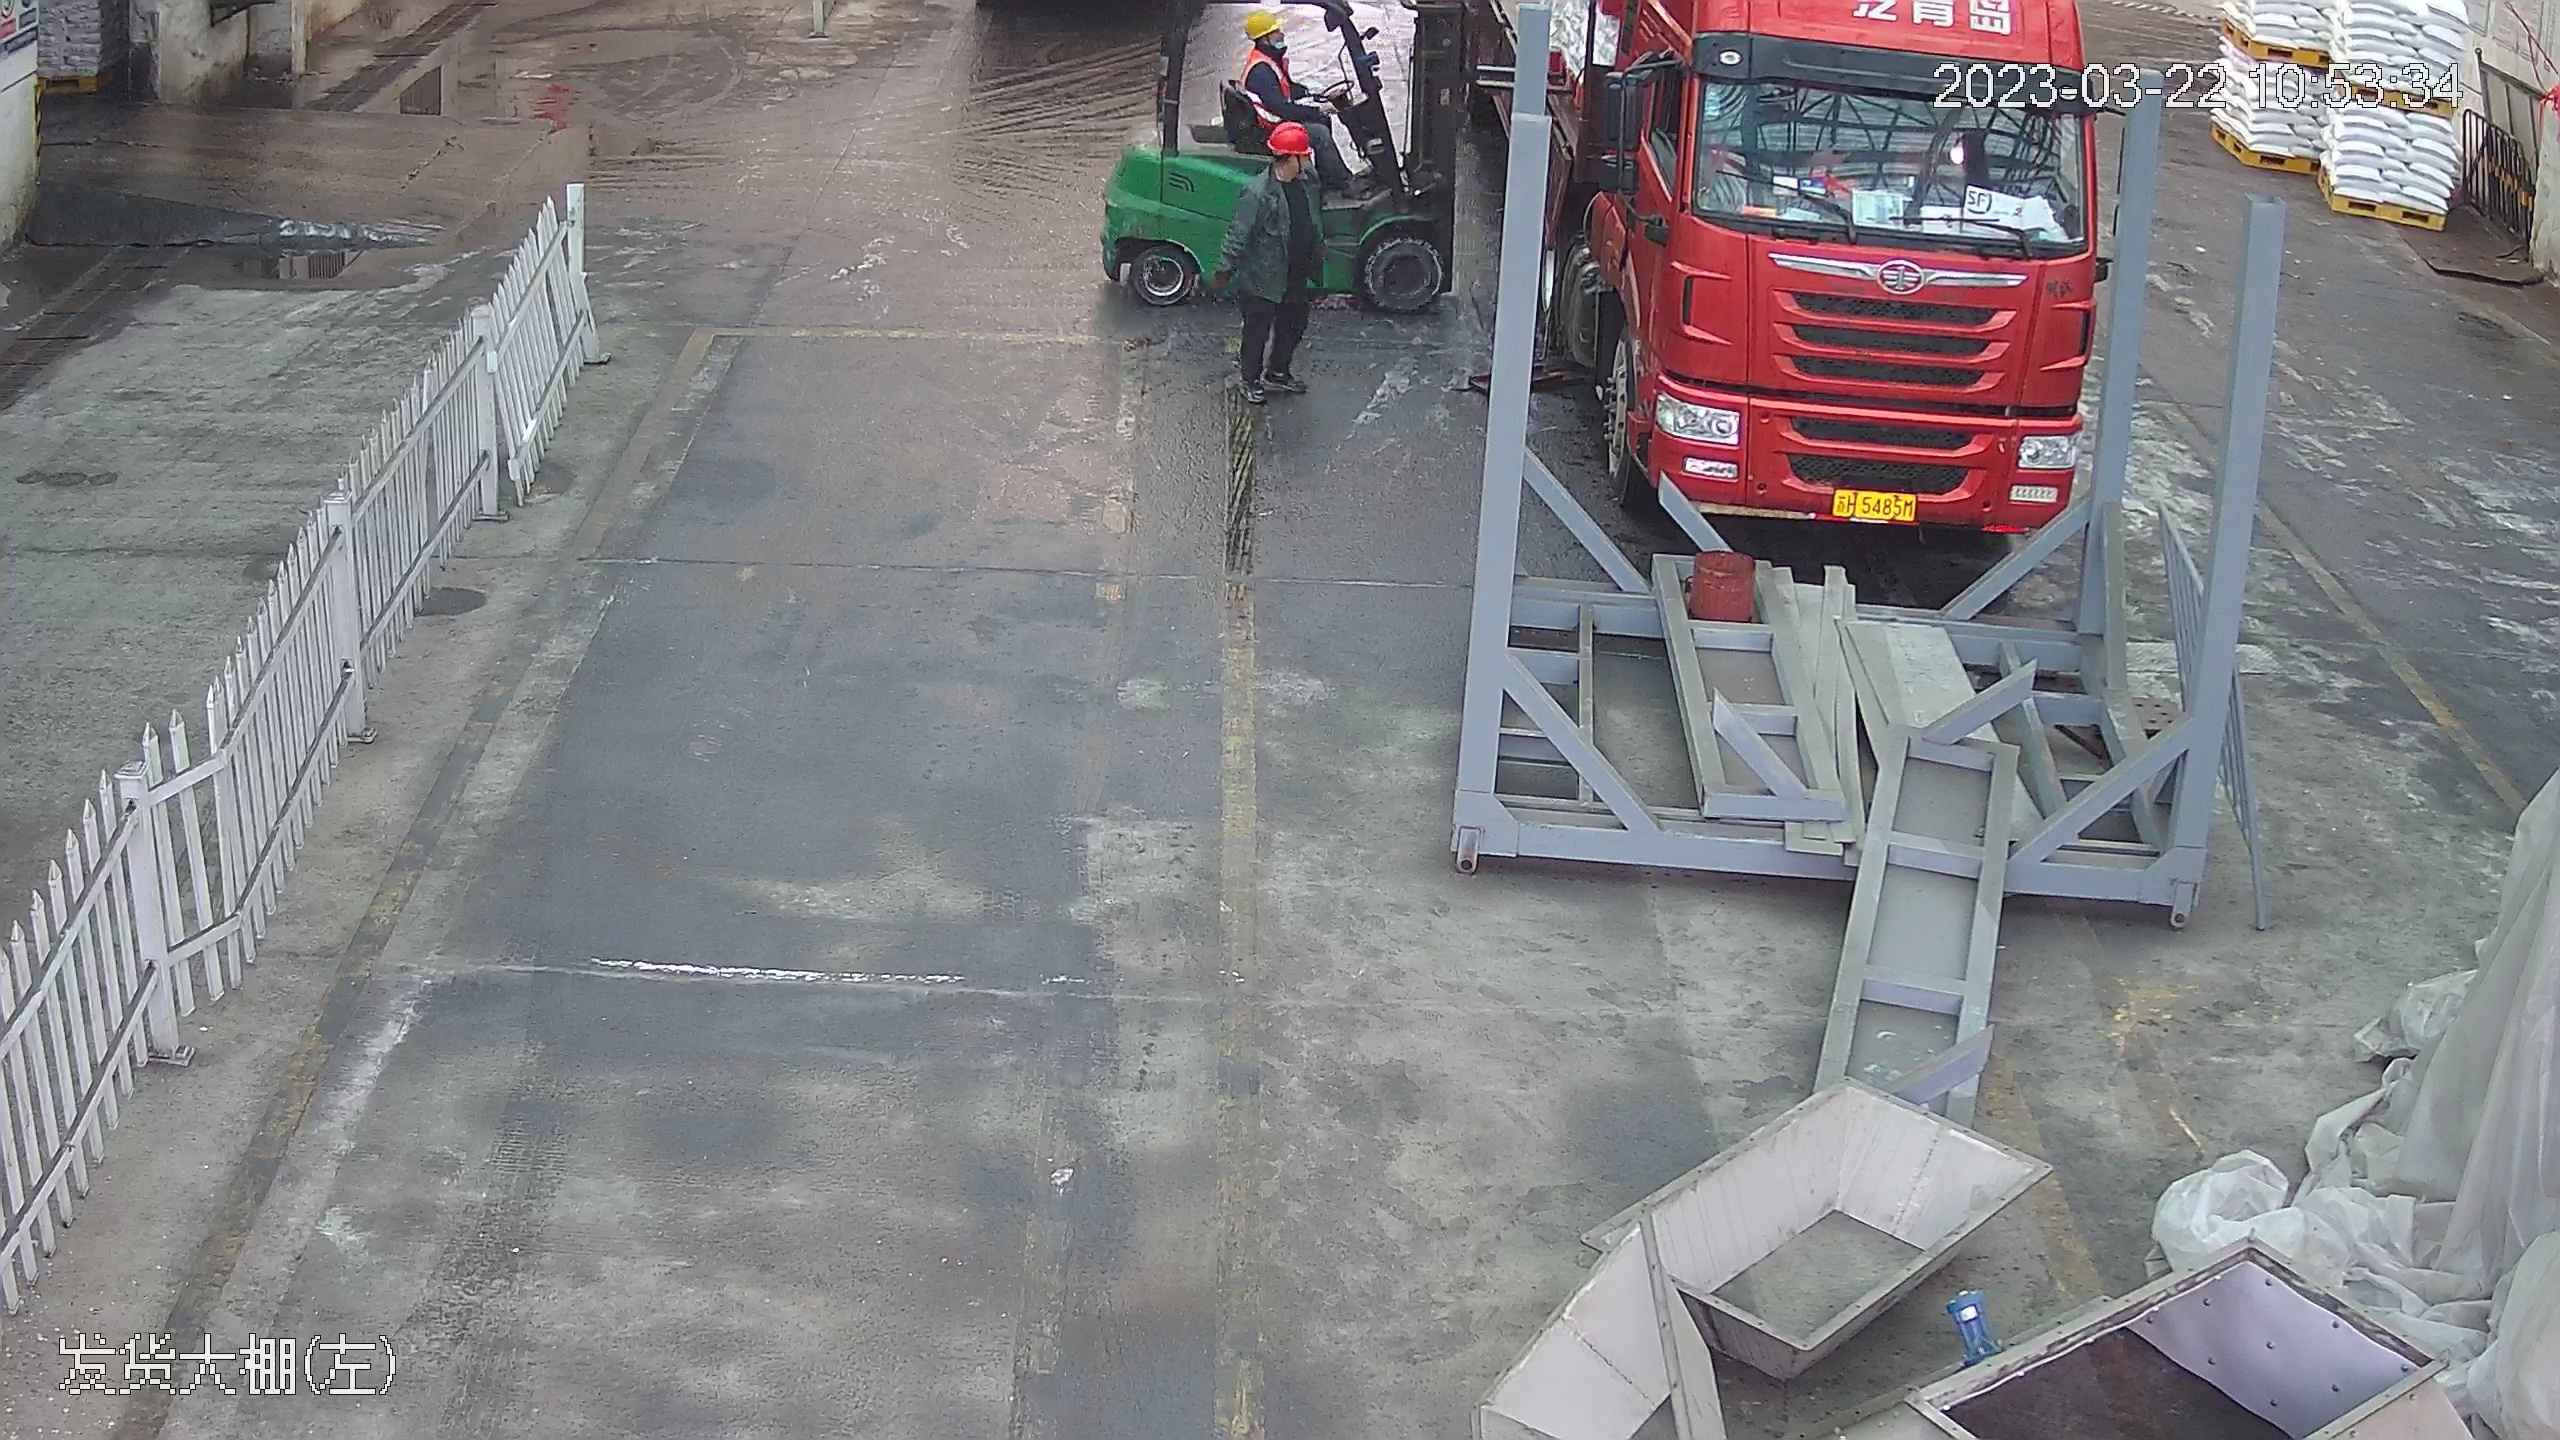head: (1244, 122, 1325, 215), (1235, 6, 1295, 83)
helmet: (1265, 121, 1316, 158), (1242, 6, 1285, 36)
people: (1228, 124, 1328, 402), (1234, 2, 1344, 175)
truck: (1528, 0, 2117, 538)
